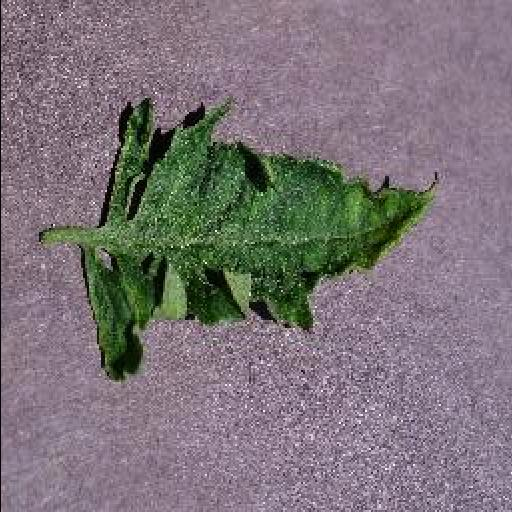disease_tomato: (76, 95, 442, 385)
